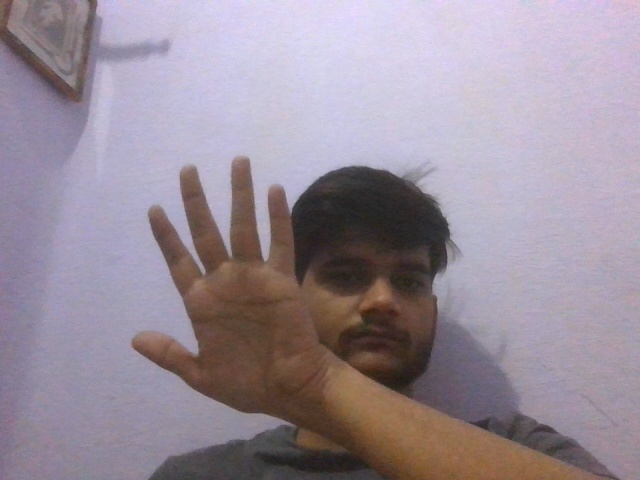hello: (99, 153, 337, 444)
